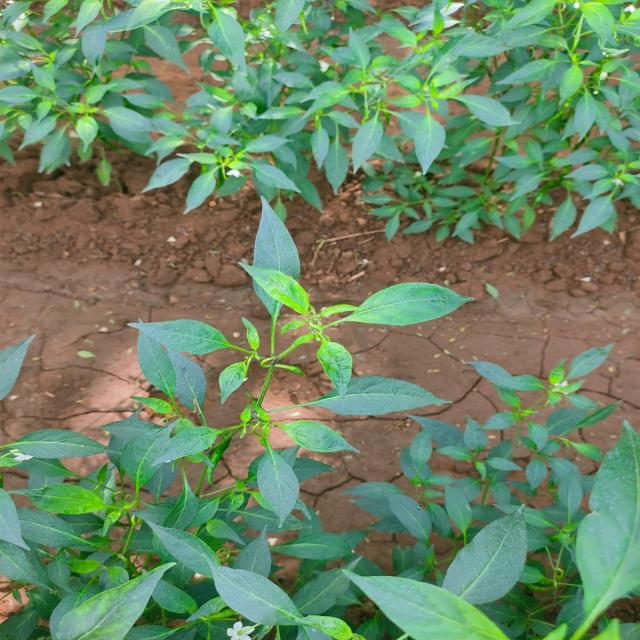Mosaic_virus: (0, 230, 640, 640), (0, 0, 640, 232)
